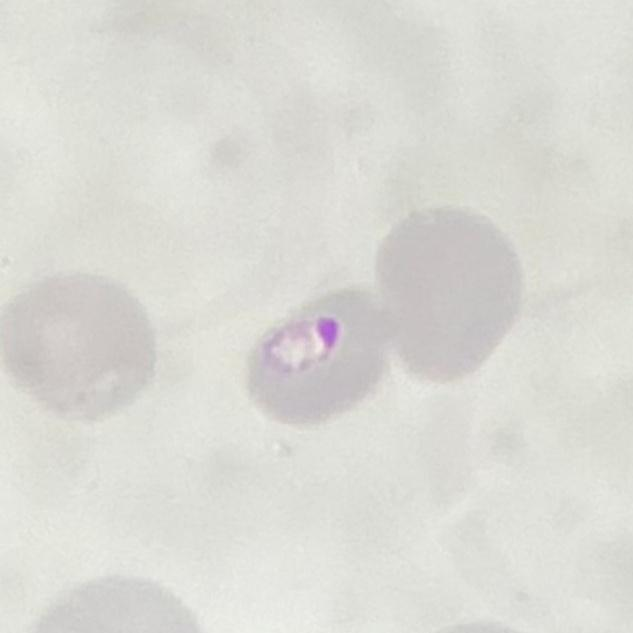Infected: (246, 289, 392, 429)
Uninfected: (381, 204, 525, 380), (1, 273, 156, 416)
